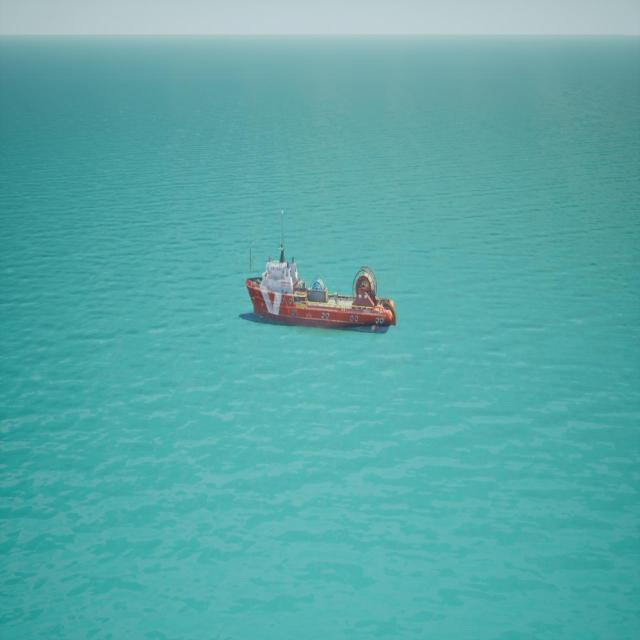tug boat: (244, 216, 399, 338)
